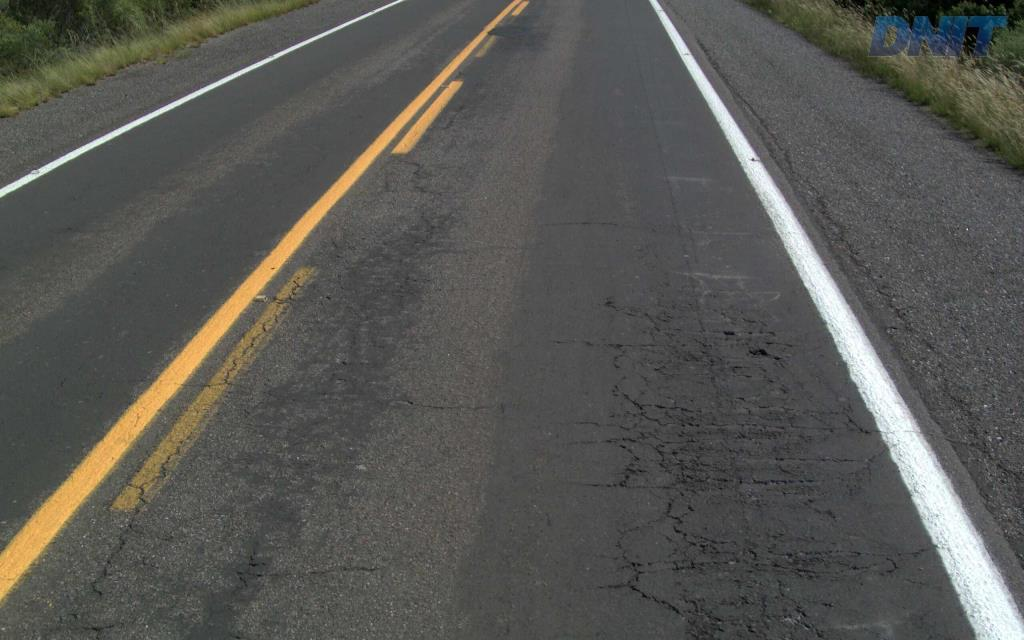crack: (607, 550, 792, 639), (742, 538, 868, 582), (671, 525, 740, 575), (774, 578, 829, 639), (658, 442, 714, 488), (667, 336, 715, 366)
